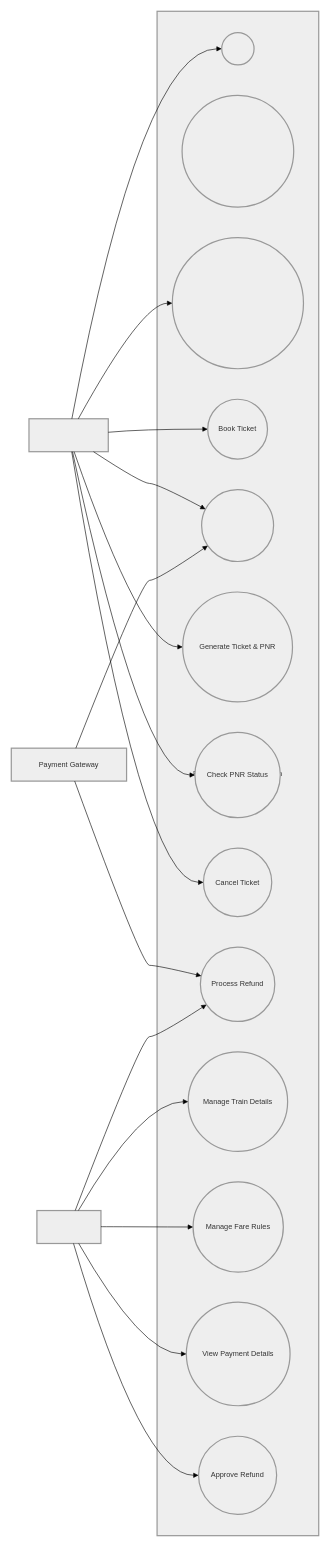
The diagram is 329 pixels wide and 1546 high, and some of its shapes have lost their labels. Each missing label, with the centre of its shape:
Admin: (68,1227)
Login: (237,48)
Make Payment: (237,525)
Passenger: (68,435)
Provide Journey Details: (237,151)
View Train List & Availability: (237,303)
